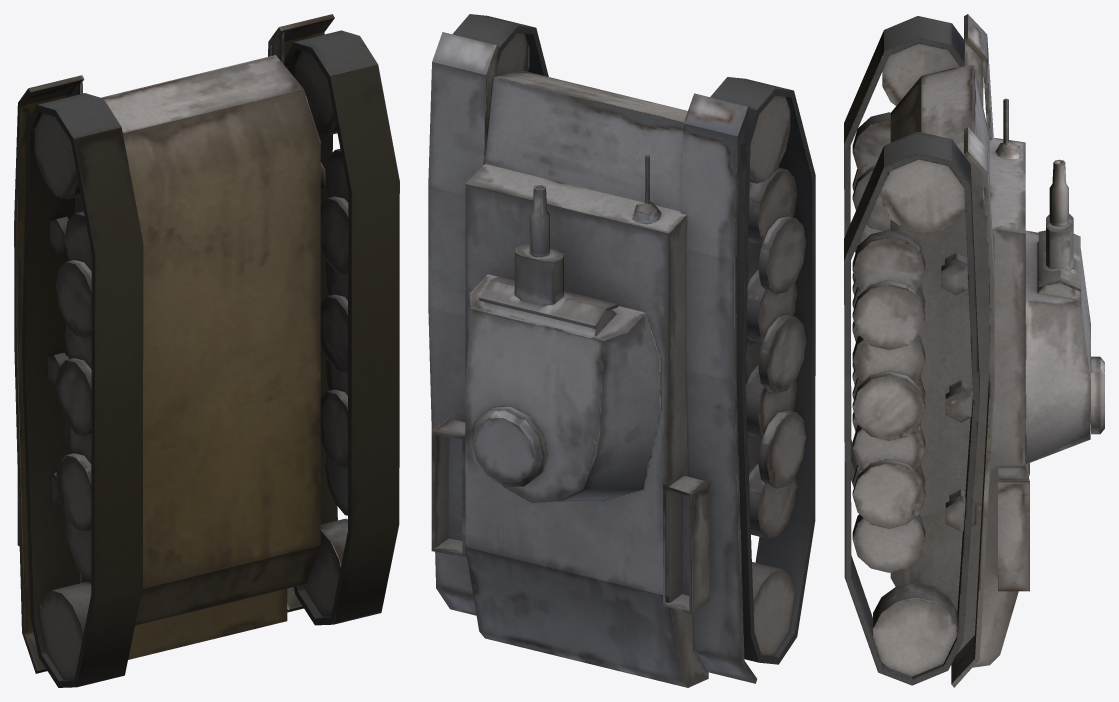
3 renders of one model, left to right at view 1: azimuth 30°, elevation 25°; view 2: azimuth 150°, elevation 25°; view 3: azimuth 270°, elevation 25°, orthographic. The views are drawn at different scales.
Visible parts, largest first — view 1: VK3001H Body; view 2: VK3001H Body, VK3001H Turret; view 3: VK3001H Body, VK3001H Turret.
Part boxes in pixels (x1=…): VK3001H Body: x1=14, y1=14, x2=399, y2=687; VK3001H Body: x1=428, y1=14, x2=815, y2=687; VK3001H Turret: x1=464, y1=185, x2=660, y2=503; VK3001H Body: x1=844, y1=14, x2=1029, y2=687; VK3001H Turret: x1=1025, y1=159, x2=1104, y2=464.
Size of the model in its own units: 121 by 223 by 97.06.
